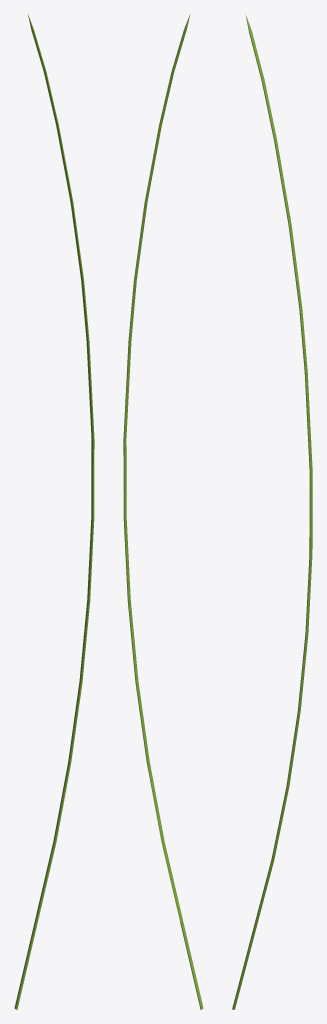
File: leaves.glb
3 views of the same model, side by side, from view 1: azimuth 30°, elevation 25°; view 2: azimuth 150°, elevation 25°; view 3: azimuth 330°, elevation 25° (orthographic).
Parts seen in each view (by area): view 1: leaves; view 2: leaves; view 3: leaves.
Boxes of the visible parts, x1,y1,x2,y2 form: leaves: (14, 14, 94, 1009); leaves: (123, 14, 203, 1009); leaves: (232, 15, 312, 1009).
Bounding box in the file's own units: 0.0834 × 1 × 0.00409.
